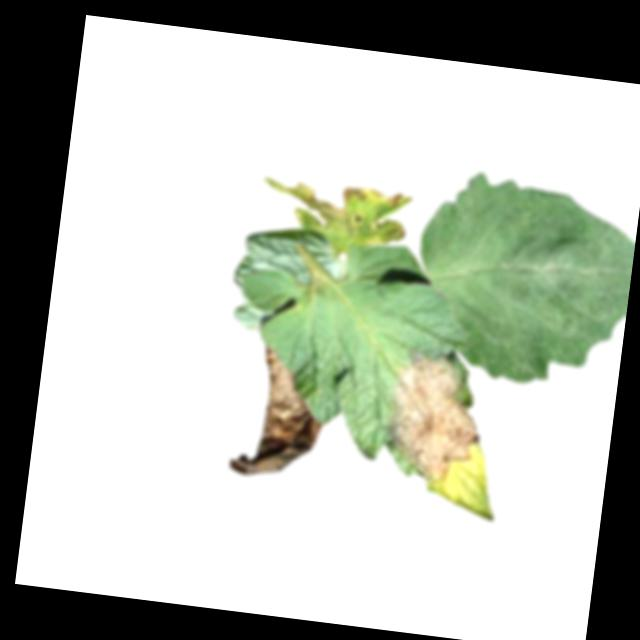Late_blight: (379, 346, 490, 489), (226, 341, 332, 486), (254, 171, 414, 259)
